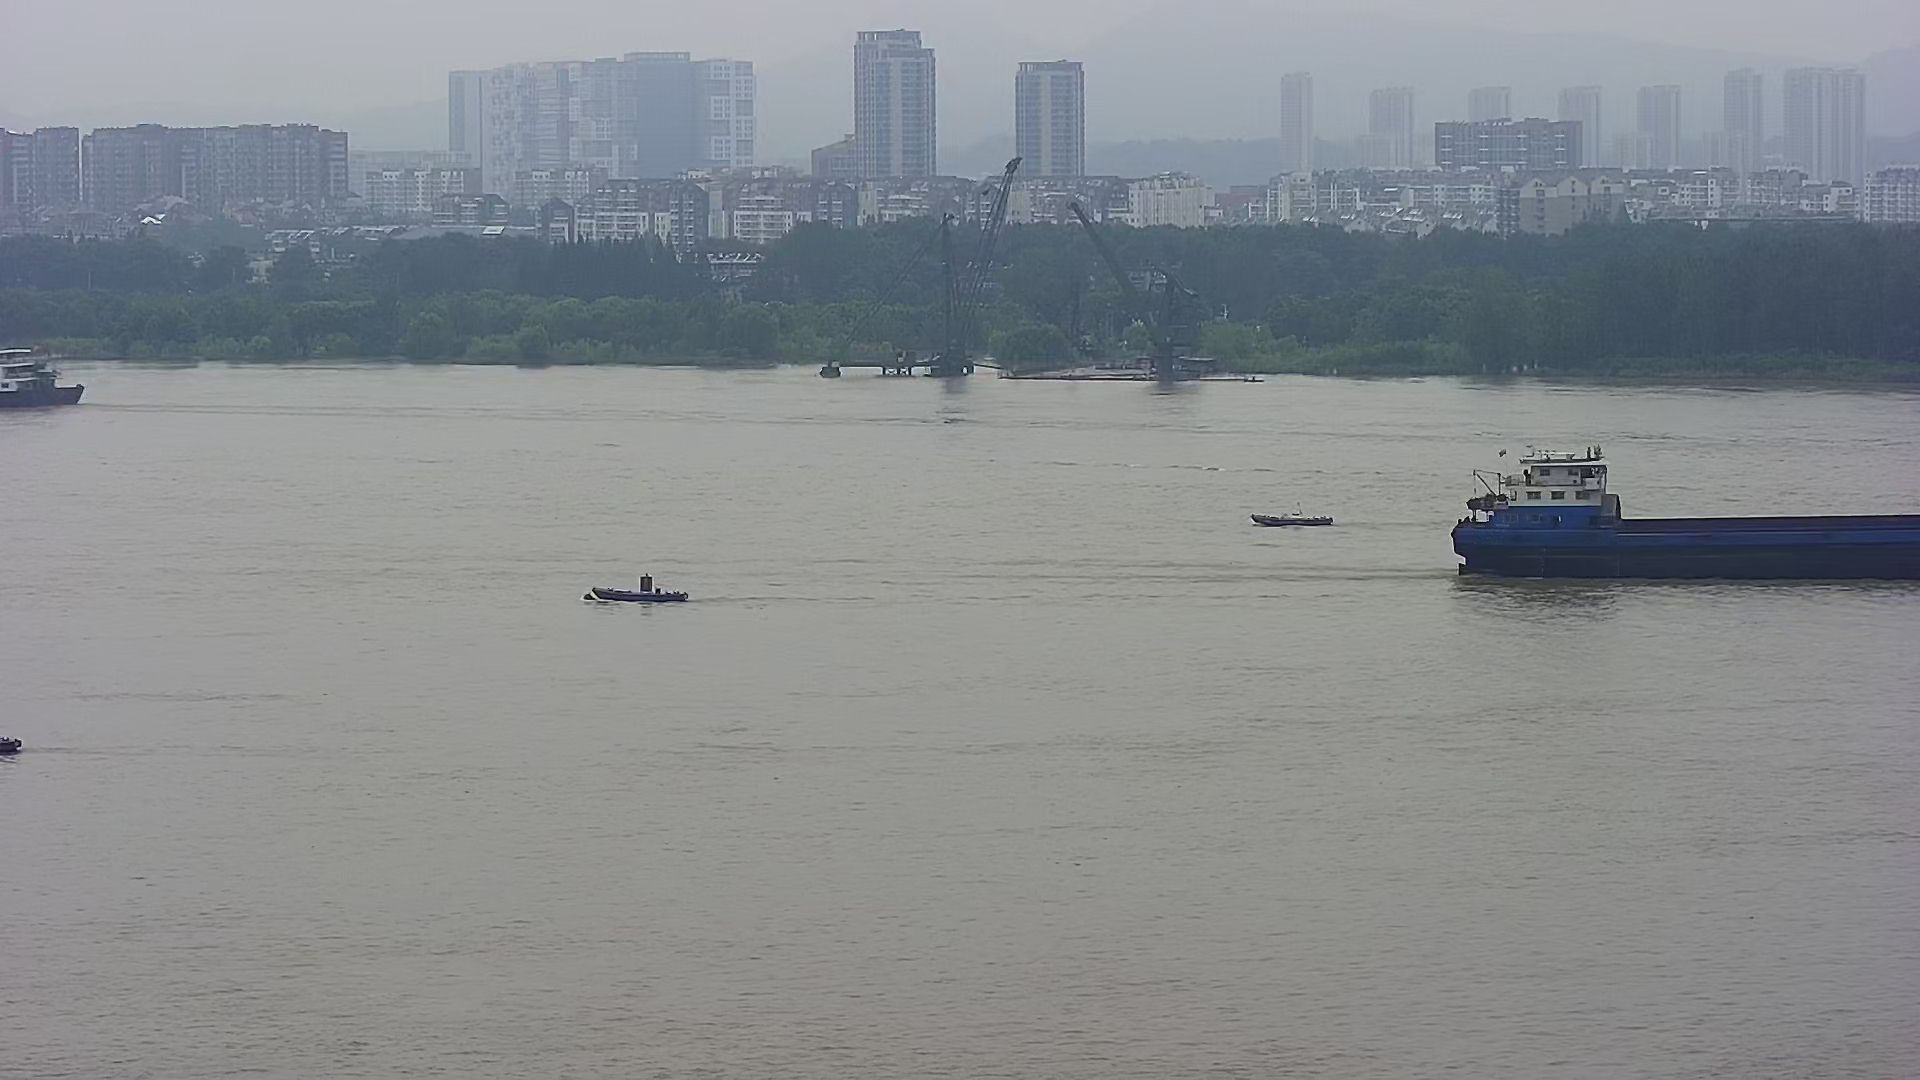boat: (1250, 495, 1340, 527), (585, 574, 687, 600), (1, 727, 21, 756)
harbor: (822, 340, 1265, 386)
ship: (1449, 436, 1920, 575), (1, 344, 92, 411)
